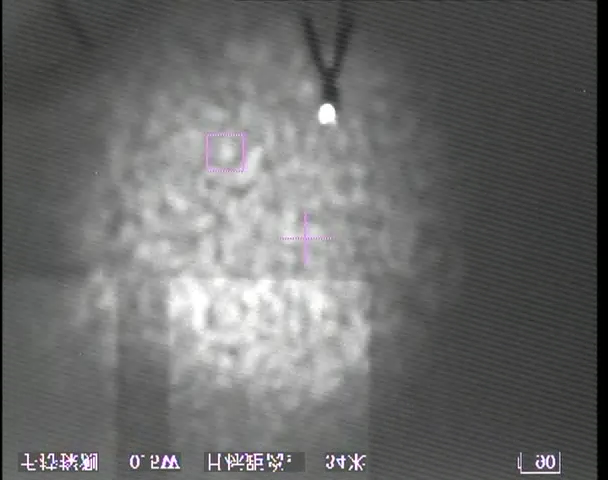my: (317, 101, 338, 126)
